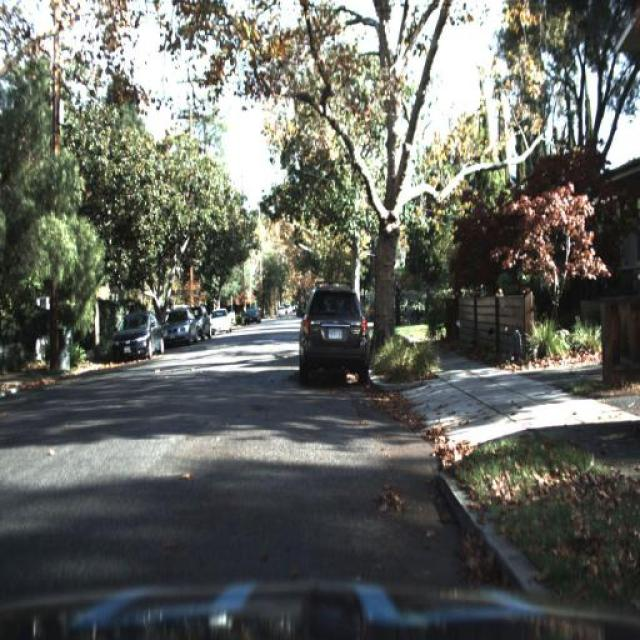car: (293, 272, 382, 402), (298, 279, 368, 386), (102, 300, 169, 370), (109, 302, 167, 370), (158, 299, 194, 350), (192, 294, 216, 344), (208, 303, 234, 338), (242, 300, 262, 330)
